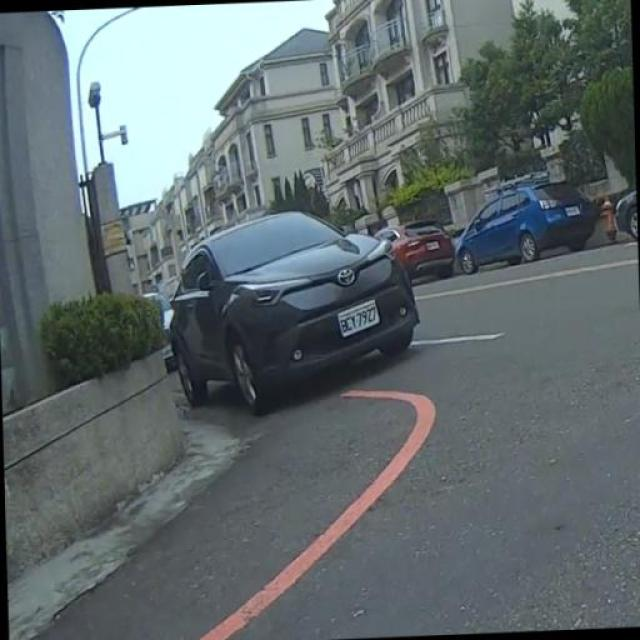Legalparking: (381, 172, 640, 280)
illegalparking: (170, 211, 419, 414)
